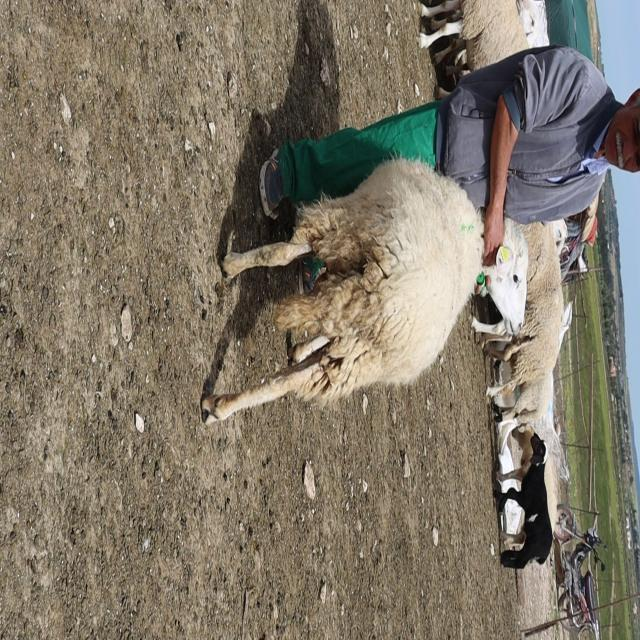Score_4: (201, 159, 529, 424)
